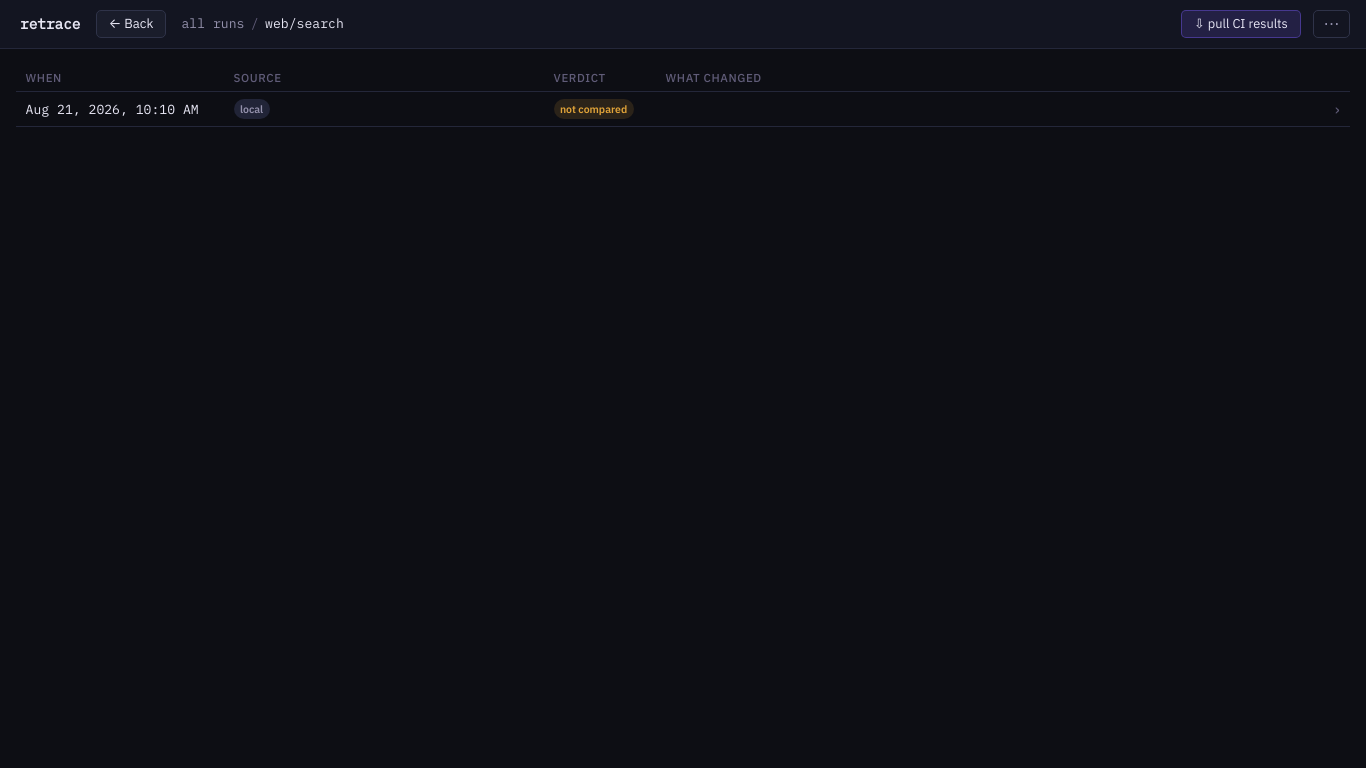
Test: the item screen › shows the captured screenshots for a not-compared run instead of nothing
Click the text "Aug 21, 2026, 10:10 AM" at (112, 109), box x1=26 y1=101 x2=199 y2=118
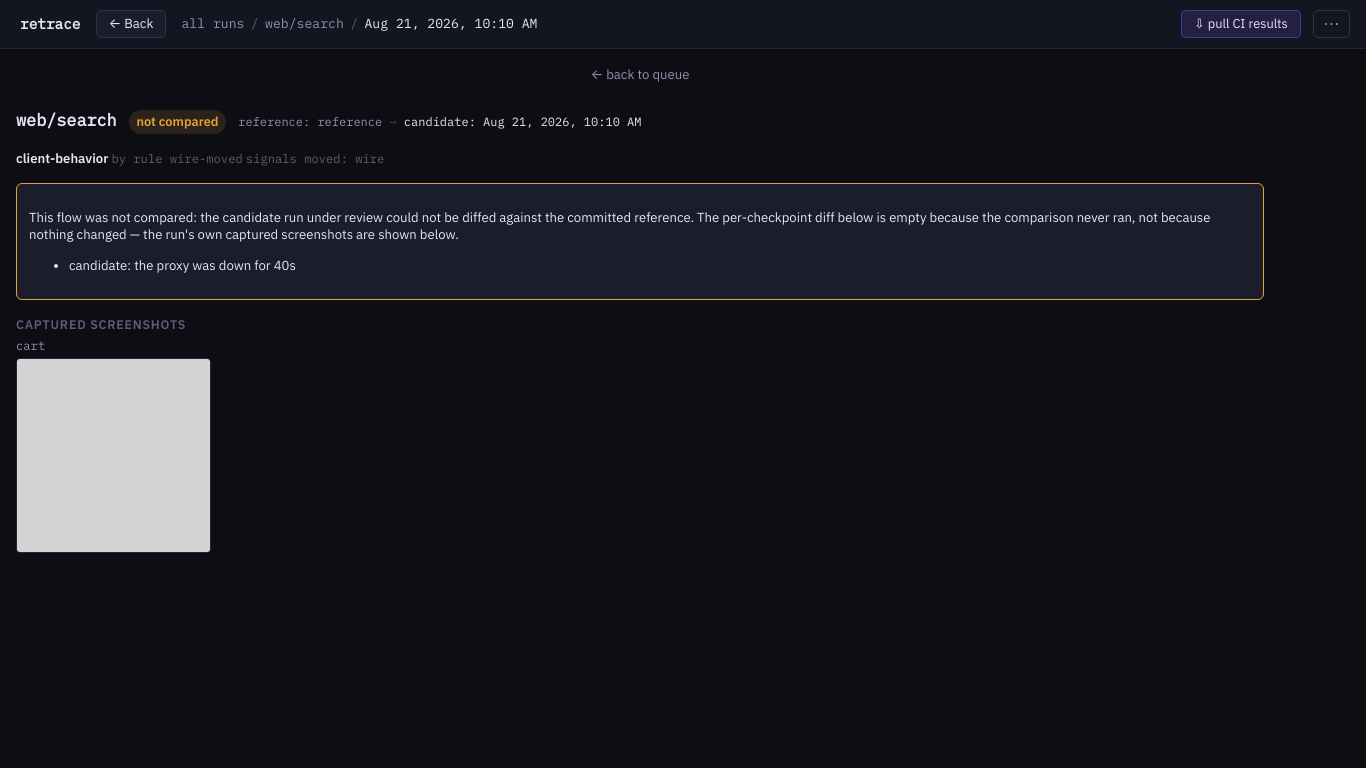
Expected: the text "captured screenshots" is shown, x1=29 y1=210 x2=1210 y2=244
